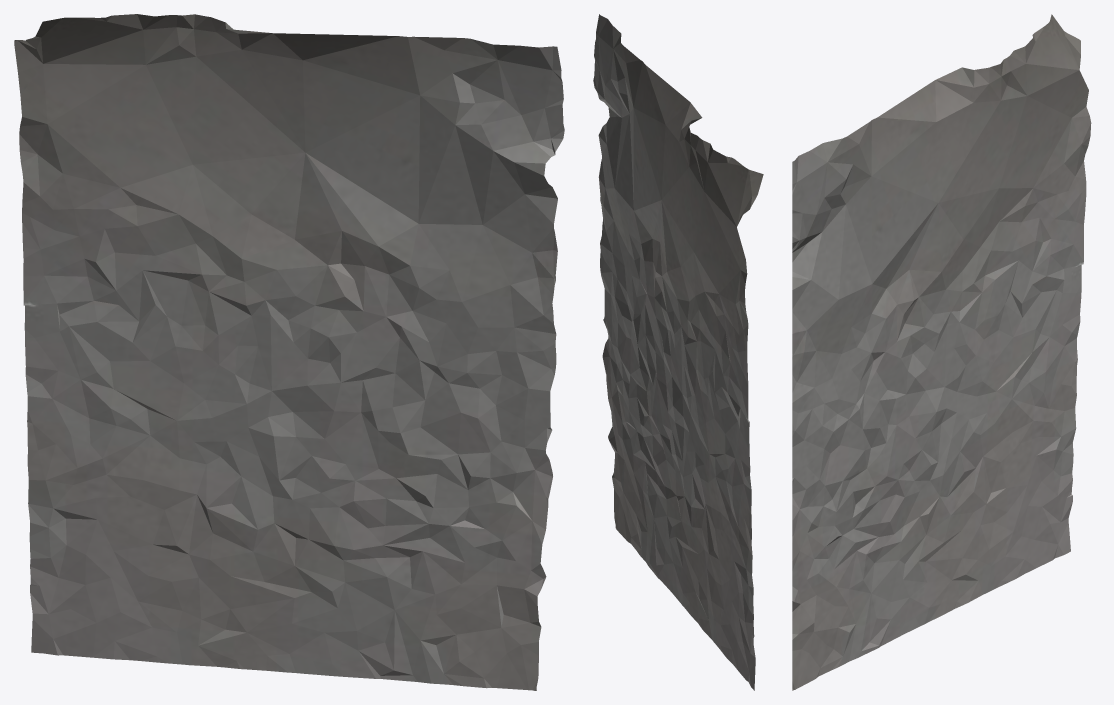
3 renders of one model, left to right at view 1: azimuth 30°, elevation 25°; view 2: azimuth 150°, elevation 25°; view 3: azimuth 270°, elevation 25°, orthographic. The views are drawn at different scales.
Bounding box in the file's own units: 0.5042 × 0.8373 × 0.4338.
2 materials, 2 textured.
